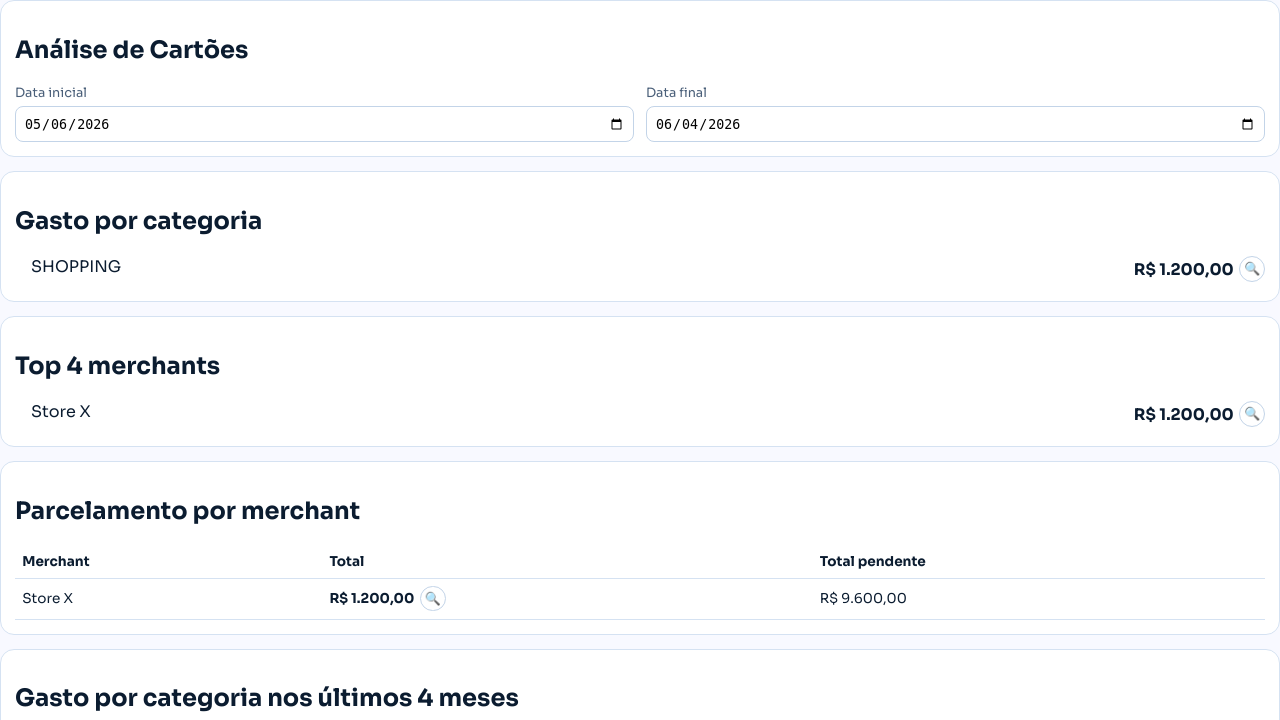
Test: analysis-feature › exibe parcela no valor dentro do modal de detalhes
Click the button named "Ver transações do parcelamento por merchant" at (433, 599), box 420,586 -> 446,611
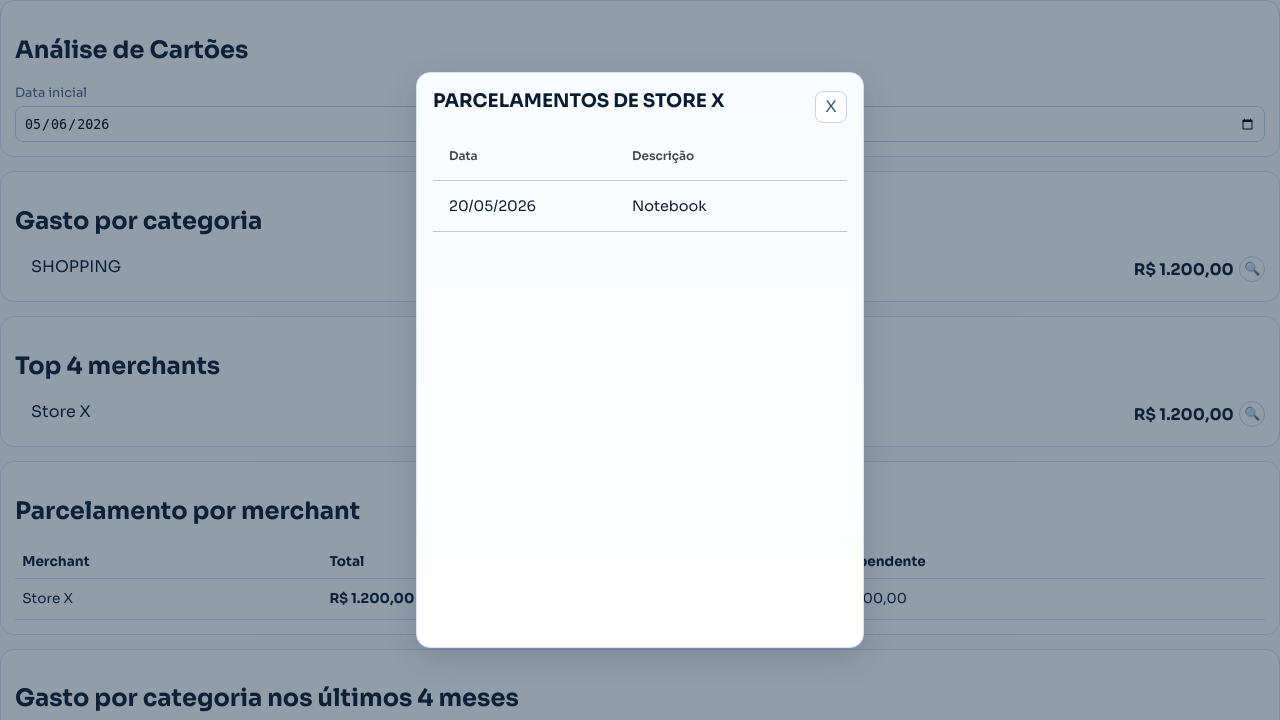
Now the dialog is shown, box 416,72 -> 864,648
